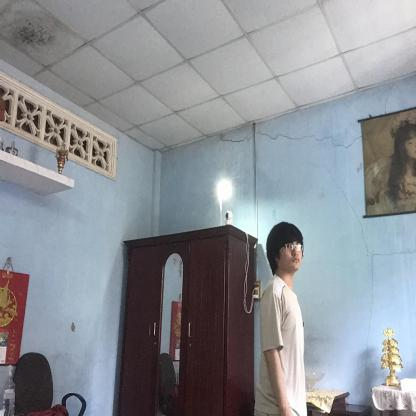person: (256, 221, 310, 416)
